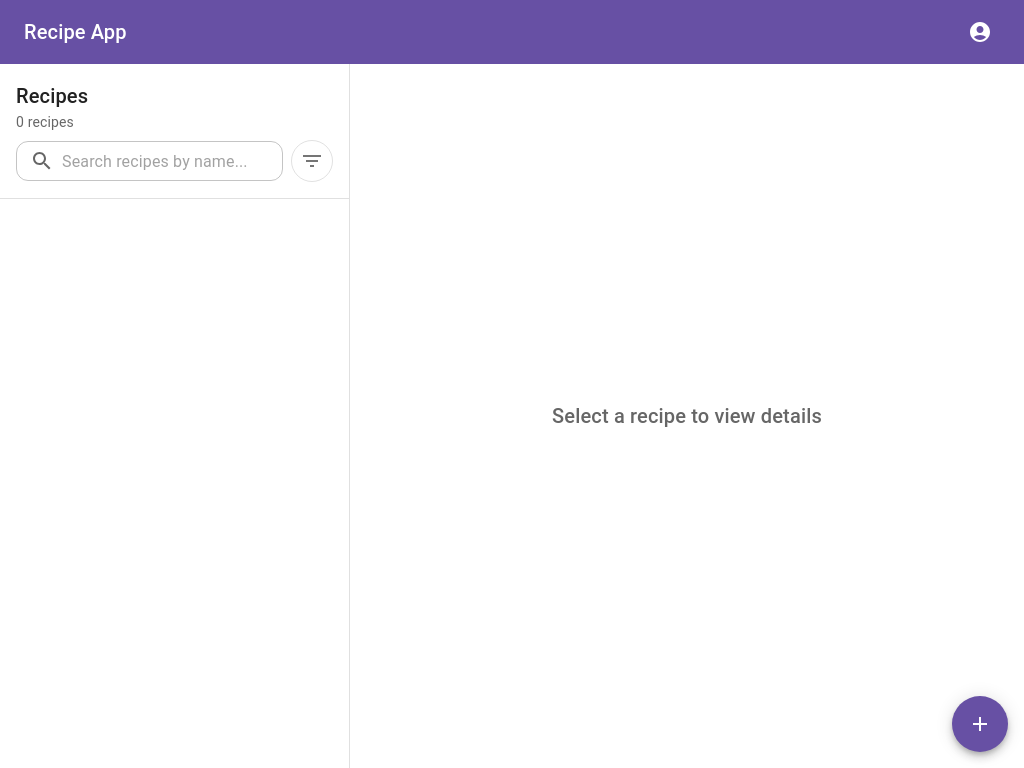
Test: App › Add Recipe Modal › opens modal when FAB is clicked
Click the button named "add": (980, 724) [952,696,1008,752]
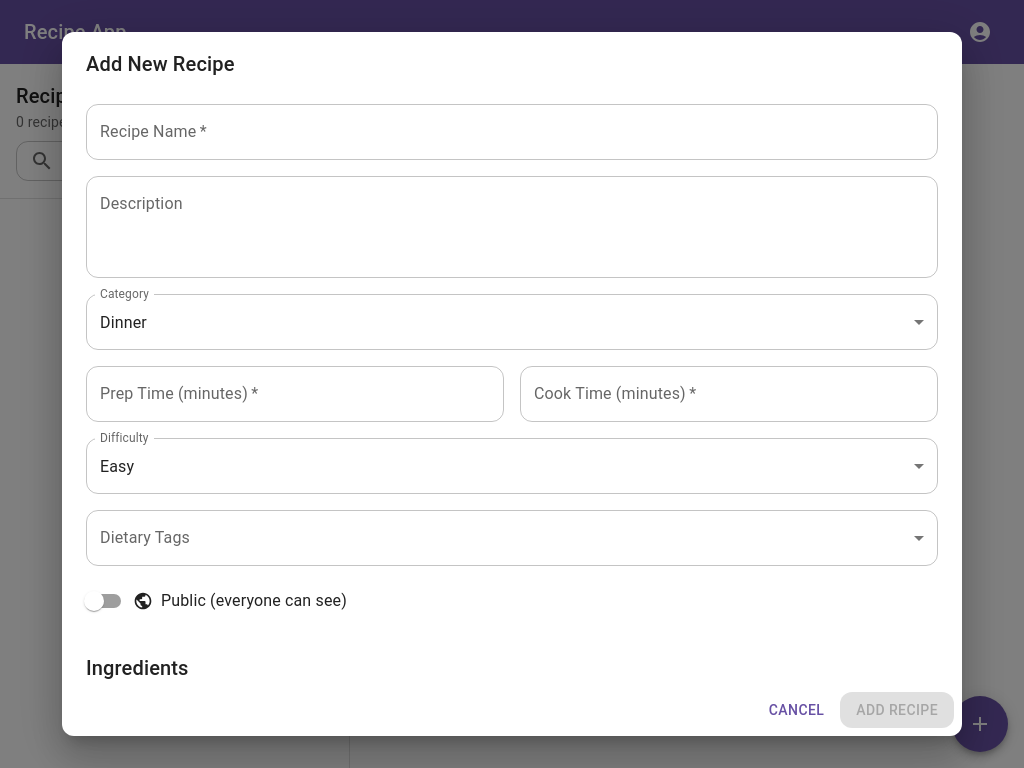
Check: the heading "Add New Recipe" is shown, box [86,52,235,76]
